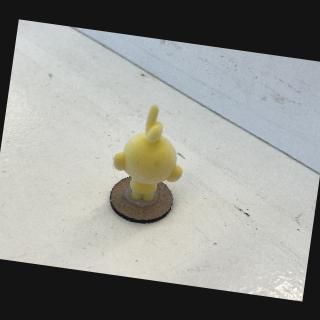teletubby: (113, 104, 182, 201)
